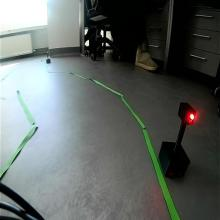red: (179, 101, 196, 125)
